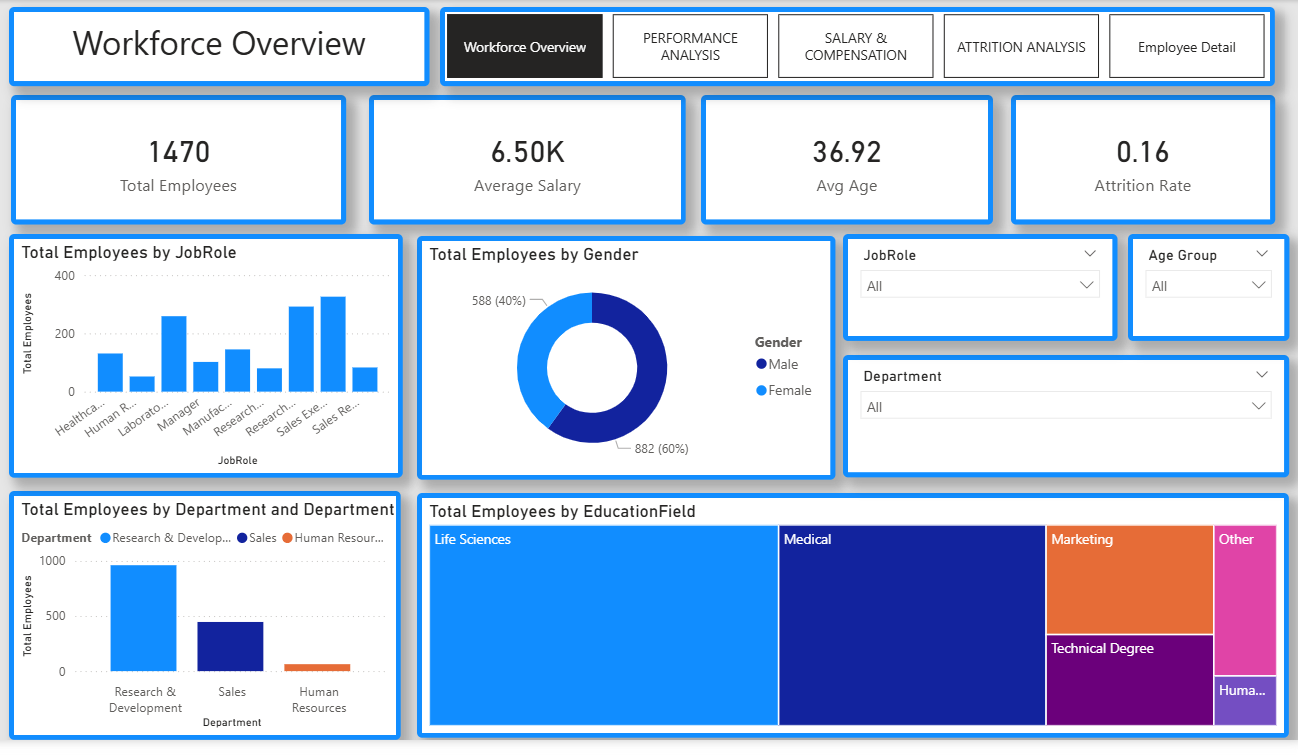

This screenshot's page, from the dashboard's own definition file:
{"tool":"powerbi","page":{"name":"Workforce Overview","canvas":[1280,720],"ordinal":0},"visuals":[{"type":"card","fields":{"Values":["Measuretbl.Total Employees"]},"box":[24.3,92.4,325.8,126.4],"z":0},{"type":"card","fields":{"Values":["Measuretbl.Average Salary"]},"box":[372.5,92.4,308.3,126.4],"z":1000},{"type":"card","fields":{"Values":["Measuretbl.Avg Age"]},"box":[695.4,92.4,284,126.4],"z":2000},{"type":"card","fields":{"Values":["Measuretbl.Attrition Rate"]},"box":[997,92.4,256.8,126.4],"z":3000},{"type":"donutChart","fields":{"Category":["FactEmployee.Gender"],"Y":["Measuretbl.Total Employees"]},"box":[419.2,229.5,406.6,237.3],"z":4000},{"type":"columnChart","fields":{"Category":["DimDepartment.Department"],"Y":["Measuretbl.Total Employees"],"Series":["DimDepartment.Department"]},"box":[22.4,477.6,381.3,242.2],"z":5000},{"type":"treemap","fields":{"Values":["Measuretbl.Total Employees"],"Group":["DimEducation.EducationField"]},"box":[419.2,479.5,848.1,238.3],"z":6000},{"type":"slicer","fields":{"Values":["DimDepartment.Department"]},"box":[833.6,345.3,433.8,118.7],"z":7000},{"type":"slicer","fields":{"Values":["DimJobRole.JobRole"]},"box":[833.6,227.6,266.5,104.1],"z":8000},{"type":"slicer","fields":{"Values":["DimAgeGroup.Age Group"]},"box":[1110.8,227.6,156.6,104.1],"z":9000},{"type":"clusteredColumnChart","fields":{"Category":["DimDepartment.Department","DimJobRole.JobRole"],"Y":["Measuretbl.Total Employees"]},"box":[22.4,227.6,383.2,237.3],"z":10000},{"type":"textbox","box":[22.4,6.8,408.5,76.8],"z":11000},{"type":"pageNavigator","box":[441.6,6.8,812.2,76.8],"z":12000}]}

Visuals, with their boxes in screenshot pixels (x1, y1, x2, y2):
card - Measuretbl.Total Employees: (8, 89, 346, 220)
card - Measuretbl.Average Salary: (369, 89, 689, 220)
card - Measuretbl.Avg Age: (704, 89, 999, 220)
card - Measuretbl.Attrition Rate: (1017, 89, 1283, 220)
donutChart - FactEmployee.Gender x Measuretbl.Total Employees: (418, 231, 839, 477)
columnChart - DimDepartment.Department x Measuretbl.Total Employees: (6, 488, 402, 740)
treemap - Measuretbl.Total Employees x DimEducation.EducationField: (418, 490, 1297, 737)
slicer - DimDepartment.Department: (847, 351, 1297, 474)
slicer - DimJobRole.JobRole: (847, 229, 1124, 337)
slicer - DimAgeGroup.Age Group: (1135, 229, 1297, 337)
clusteredColumnChart - DimDepartment.Department x DimJobRole.JobRole: (6, 229, 404, 475)
textbox: (6, 0, 430, 80)
pageNavigator: (441, 0, 1283, 80)
